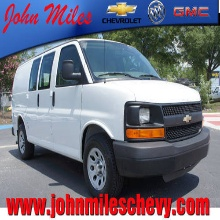no damage: (11, 37, 211, 196)
